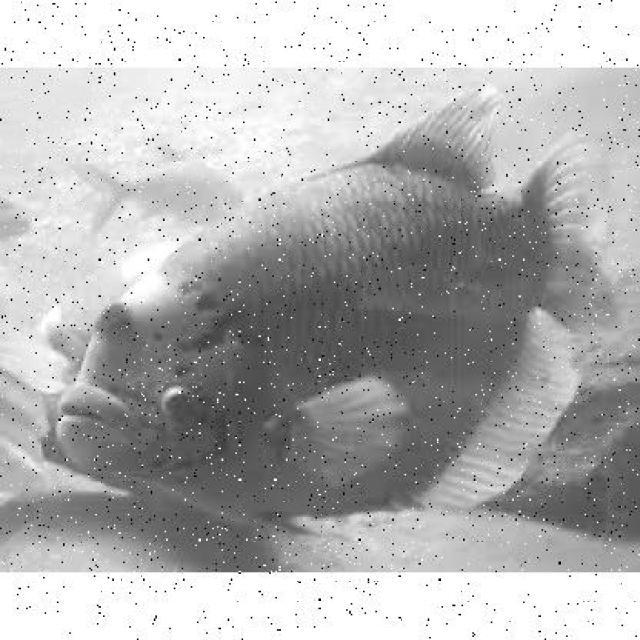gurame: (58, 85, 604, 527)
